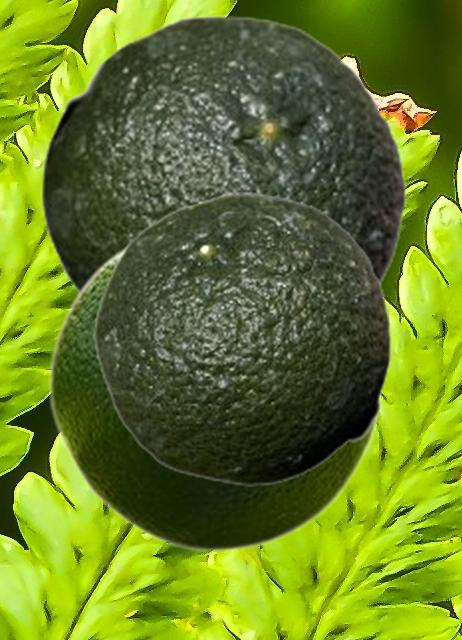calamansi: (47, 238, 381, 551), (40, 15, 407, 293), (93, 192, 391, 485)
